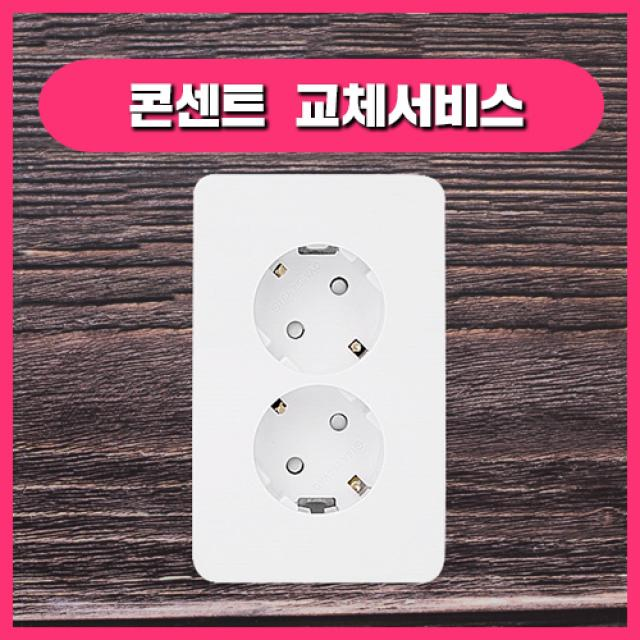typeb: (164, 163, 479, 596)
